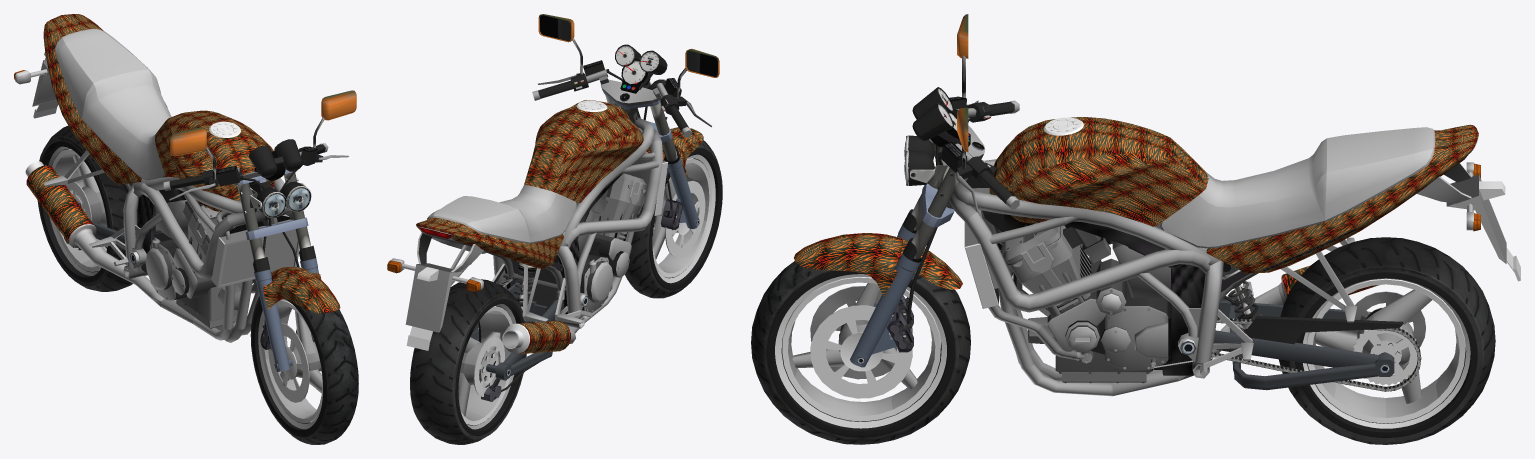
The model's file is SuperMotors_2_.fbx.
The picture shows the model from 3 angles, left to right: view 1: azimuth 30°, elevation 25°; view 2: azimuth 150°, elevation 25°; view 3: azimuth 270°, elevation 25°; orthographic projection. The views are drawn at different scales.
Visible parts, largest first — view 1: SuperMotors_2_010, SuperMotors_2_003, SuperMotors_2_001, SuperMotors_2_011, SuperMotors_2_013, SuperMotors_2_009, SuperMotors_2_012, SuperMotors_2_016, SuperMotors_2_017, SuperMotors_2_002, SuperMotors_2_019, SuperMotors_2_020 (+3 smaller); view 2: SuperMotors_2_010, SuperMotors_2_001, SuperMotors_2_003, SuperMotors_2_011, SuperMotors_2_002, SuperMotors_2_017, SuperMotors_2_013, SuperMotors_2_015, SuperMotors_2_009, SuperMotors_2_012, SuperMotors_2_016, SuperMotors_2_020 (+1 smaller); view 3: SuperMotors_2_010, SuperMotors_2_001, SuperMotors_2_003, SuperMotors_2_011, SuperMotors_2_015, SuperMotors_2_013, SuperMotors_2_012, SuperMotors_2_002, SuperMotors_2_017, SuperMotors_2_016, SuperMotors_2_009, SuperMotors_2_014.
Boxes of the visible parts, bbox=[...] form: SuperMotors_2_010: bbox=[43, 14, 299, 342]; SuperMotors_2_003: bbox=[250, 296, 358, 444]; SuperMotors_2_001: bbox=[37, 126, 133, 291]; SuperMotors_2_011: bbox=[122, 151, 293, 278]; SuperMotors_2_013: bbox=[253, 232, 340, 371]; SuperMotors_2_009: bbox=[25, 161, 194, 323]; SuperMotors_2_012: bbox=[121, 139, 302, 273]; SuperMotors_2_016: bbox=[235, 169, 310, 260]; SuperMotors_2_017: bbox=[163, 143, 348, 225]; SuperMotors_2_002: bbox=[15, 51, 58, 118]; SuperMotors_2_019: bbox=[170, 127, 215, 179]; SuperMotors_2_020: bbox=[313, 90, 356, 148]; SuperMotors_2_010: bbox=[416, 100, 668, 323]; SuperMotors_2_001: bbox=[410, 279, 526, 444]; SuperMotors_2_003: bbox=[625, 140, 722, 298]; SuperMotors_2_011: bbox=[483, 59, 663, 328]; SuperMotors_2_002: bbox=[389, 232, 483, 350]; SuperMotors_2_017: bbox=[532, 60, 711, 137]; SuperMotors_2_013: bbox=[646, 127, 703, 229]; SuperMotors_2_015: bbox=[470, 262, 563, 401]; SuperMotors_2_009: bbox=[502, 316, 585, 354]; SuperMotors_2_012: bbox=[505, 44, 667, 314]; SuperMotors_2_016: bbox=[602, 89, 677, 161]; SuperMotors_2_020: bbox=[538, 14, 582, 74]; SuperMotors_2_010: bbox=[964, 117, 1478, 396]; SuperMotors_2_001: bbox=[1278, 237, 1495, 444]; SuperMotors_2_003: bbox=[751, 261, 970, 444]; SuperMotors_2_011: bbox=[930, 112, 1258, 378]; SuperMotors_2_015: bbox=[1211, 266, 1421, 391]; SuperMotors_2_013: bbox=[794, 209, 962, 367]; SuperMotors_2_012: bbox=[912, 87, 1255, 375]; SuperMotors_2_002: bbox=[1417, 162, 1520, 281]; SuperMotors_2_017: bbox=[935, 96, 1019, 212]; SuperMotors_2_016: bbox=[911, 141, 984, 259]; SuperMotors_2_009: bbox=[1112, 266, 1379, 395]; SuperMotors_2_014: bbox=[906, 135, 953, 197].
Size of what is drawn, in the model's own units: 57.14 by 86.85 by 162.
